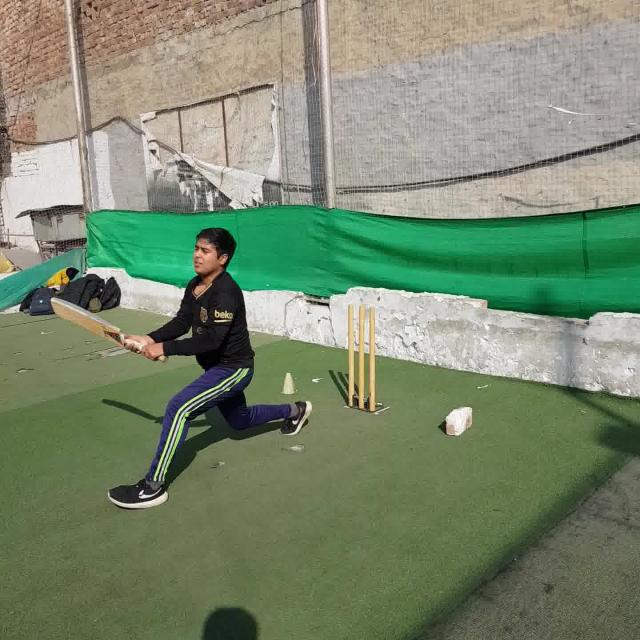bat: (50, 296, 167, 364)
